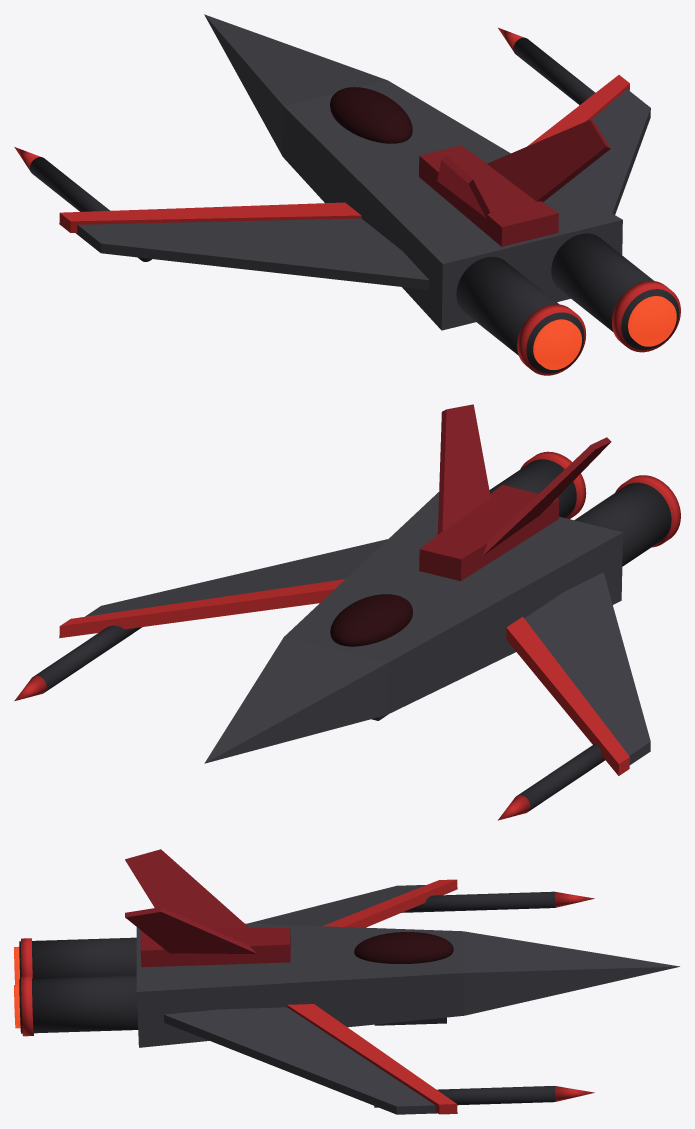
The model's file is raider.glb.
3 renders of one model, top to bottom at view 1: azimuth 30°, elevation 25°; view 2: azimuth 150°, elevation 25°; view 3: azimuth 270°, elevation 25°, orthographic. The views are drawn at different scales.
Parts seen in each view (by area): view 1: Body, WingL, Nose, EngineR, EngineL, DorsalSpine, FinR, WingR, WingEdgeL, Canopy, ThrusterL, ThrusterR (+6 smaller); view 2: Body, Nose, WingL, DorsalSpine, WingR, WingEdgeR, FinR, WingEdgeL, EngineL, Canopy, FinL, GunR (+4 smaller); view 3: Body, WingR, Nose, EngineR, FinL, EngineL, DorsalSpine, FinR, WingEdgeR, Canopy, GunL, WingL (+4 smaller).
Part boxes in pixels (x1=…): Body: x1=282, y1=80, x2=622, y2=330; WingL: x1=76, y1=218, x2=429, y2=289; Nose: x1=204, y1=14, x2=387, y2=155; EngineR: x1=551, y1=233, x2=679, y2=350; EngineL: x1=456, y1=256, x2=584, y2=373; DorsalSpine: x1=419, y1=145, x2=558, y2=246; FinR: x1=487, y1=120, x2=610, y2=201; WingR: x1=565, y1=89, x2=650, y2=214; WingEdgeL: x1=59, y1=202, x2=361, y2=232; Canopy: x1=330, y1=87, x2=412, y2=143; ThrusterL: x1=533, y1=319, x2=581, y2=369; ThrusterR: x1=628, y1=296, x2=676, y2=346; Body: x1=284, y1=492, x2=622, y2=714; Nose: x1=204, y1=637, x2=387, y2=763; WingL: x1=524, y1=572, x2=650, y2=764; DorsalSpine: x1=419, y1=485, x2=559, y2=581; WingR: x1=85, y1=539, x2=387, y2=616; WingEdgeR: x1=59, y1=579, x2=345, y2=638; FinR: x1=437, y1=404, x2=490, y2=534; WingEdgeL: x1=506, y1=616, x2=629, y2=775; EngineL: x1=574, y1=482, x2=671, y2=566; Canopy: x1=330, y1=594, x2=412, y2=646; FinL: x1=482, y1=437, x2=611, y2=555; GunR: x1=33, y1=625, x2=142, y2=691; Body: x1=136, y1=923, x2=464, y2=1047; WingR: x1=164, y1=1007, x2=436, y2=1114; Nose: x1=463, y1=931, x2=679, y2=1015; EngineR: x1=19, y1=975, x2=138, y2=1033; FinL: x1=125, y1=849, x2=249, y2=928; EngineL: x1=19, y1=937, x2=136, y2=979; DorsalSpine: x1=140, y1=928, x2=290, y2=967; FinR: x1=125, y1=907, x2=257, y2=953; WingEdgeR: x1=287, y1=1004, x2=457, y2=1114; Canopy: x1=354, y1=932, x2=453, y2=963; GunL: x1=401, y1=891, x2=555, y2=912; WingL: x1=248, y1=885, x2=425, y2=926.
Bounding box in the file's own units: 5.9 × 1.66 × 7.36.
